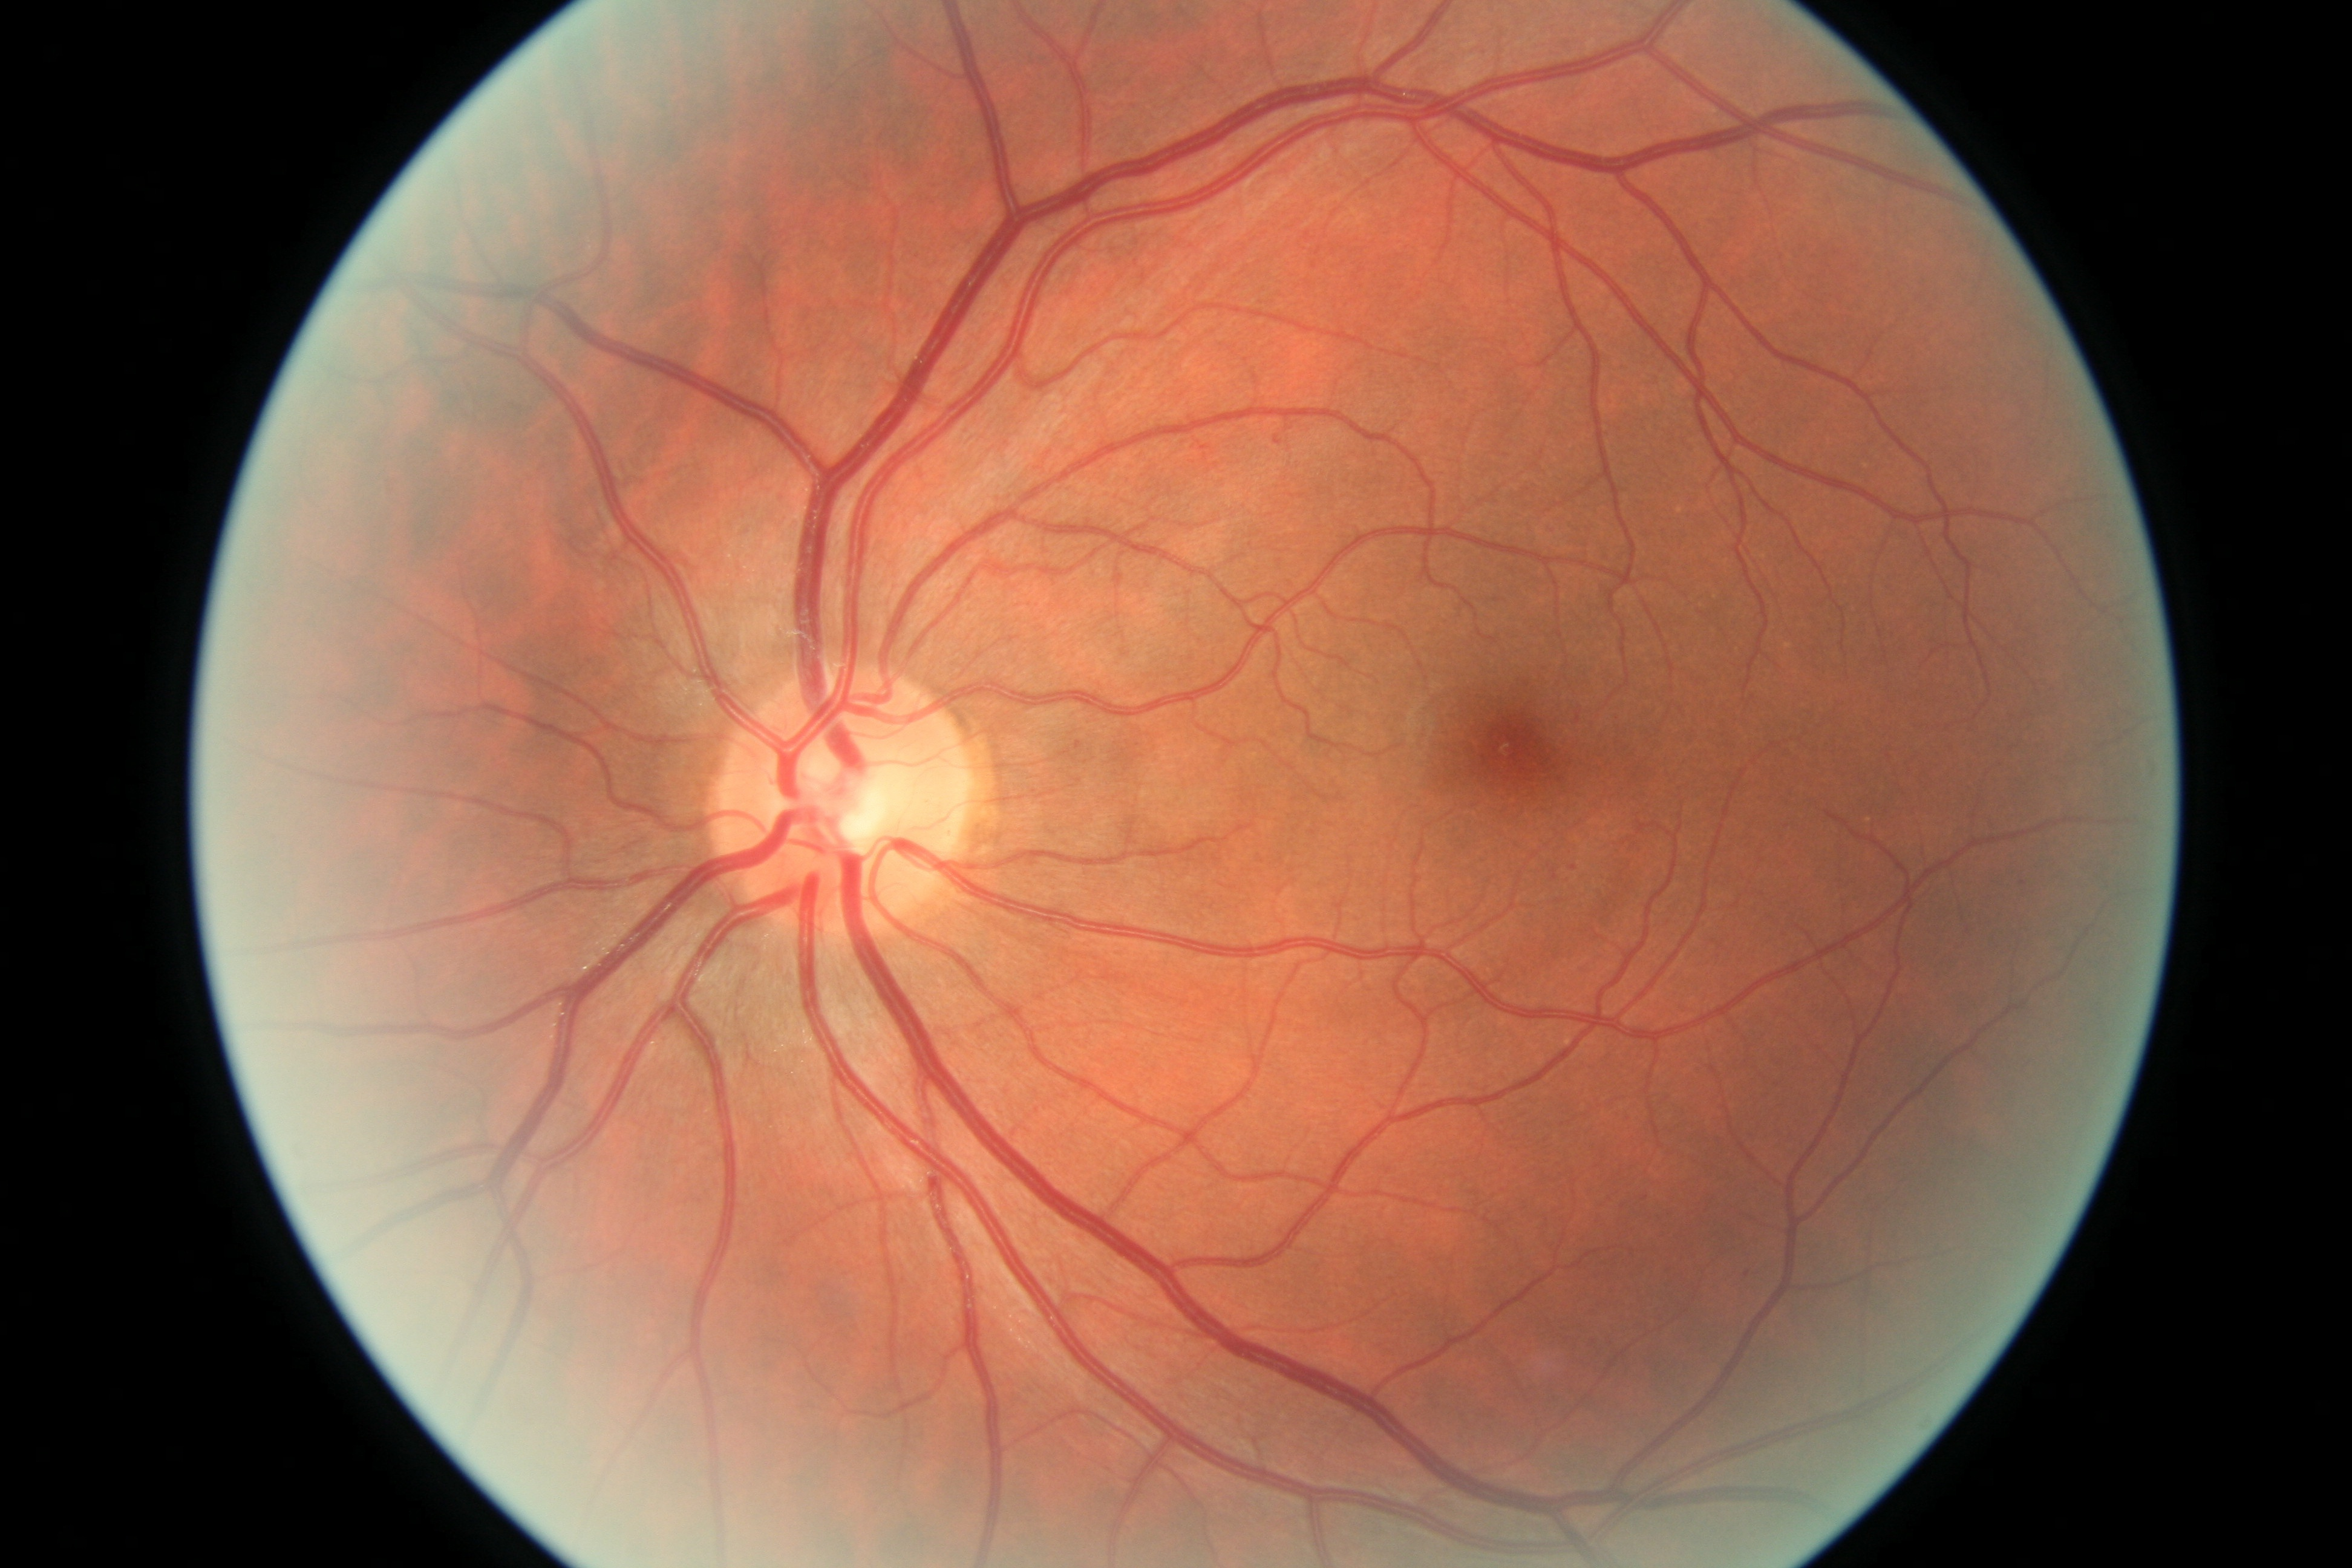Fovea: (1412, 663, 1619, 850)
OD: (698, 646, 990, 955)
